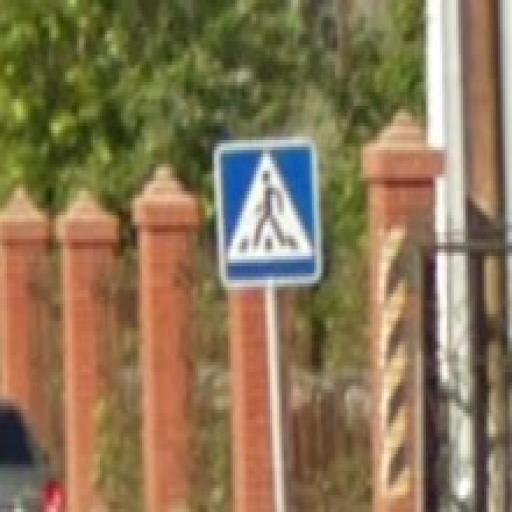traffic_sign: (213, 141, 324, 291)
